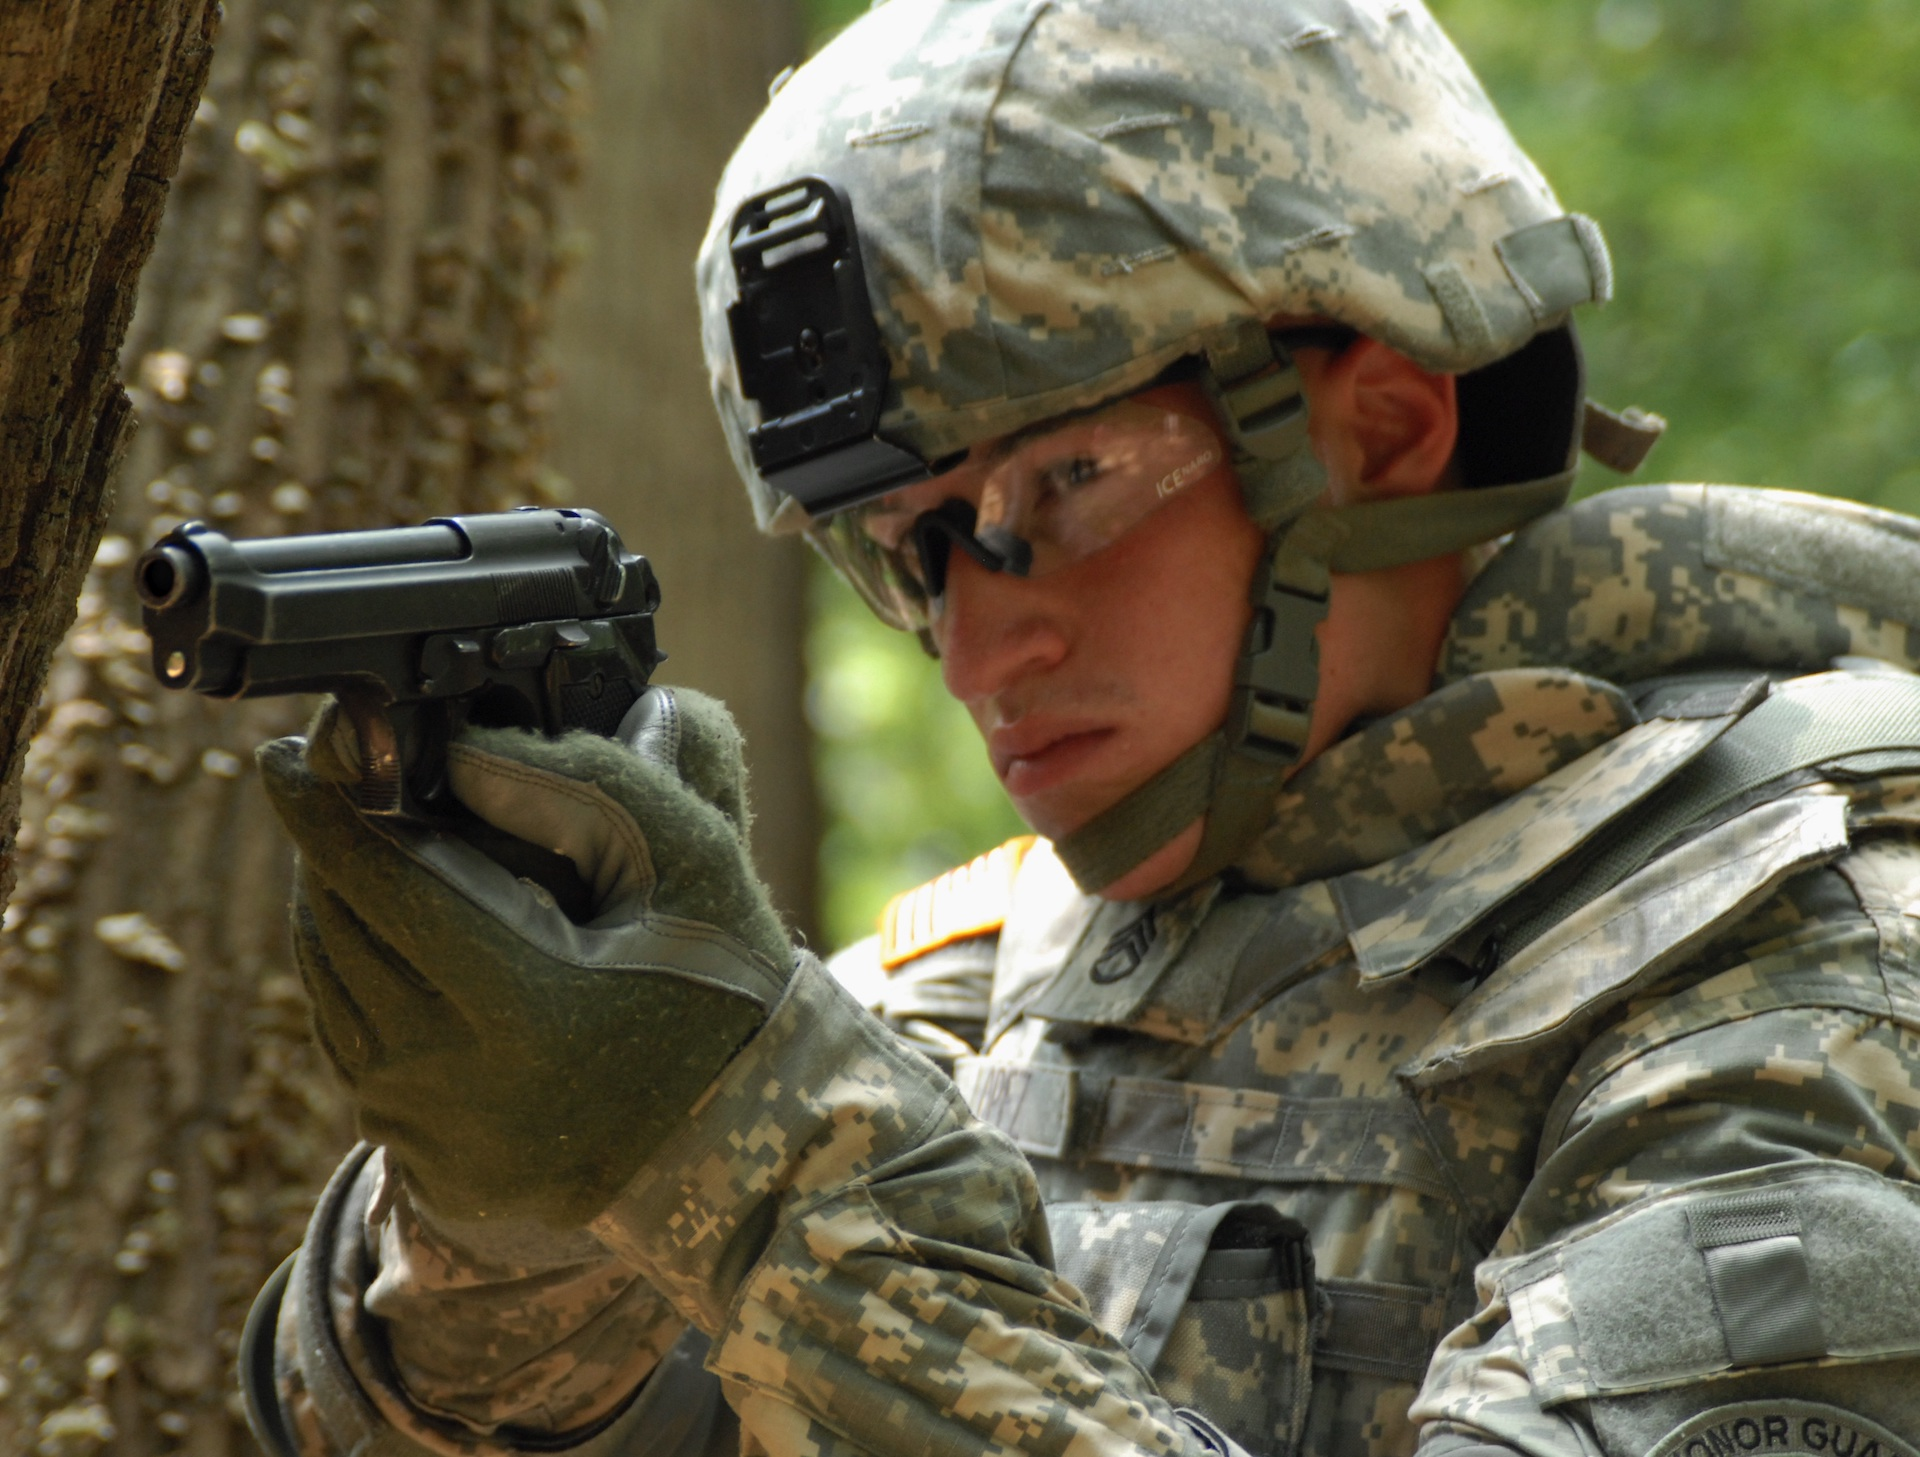pistol: (135, 500, 670, 842)
